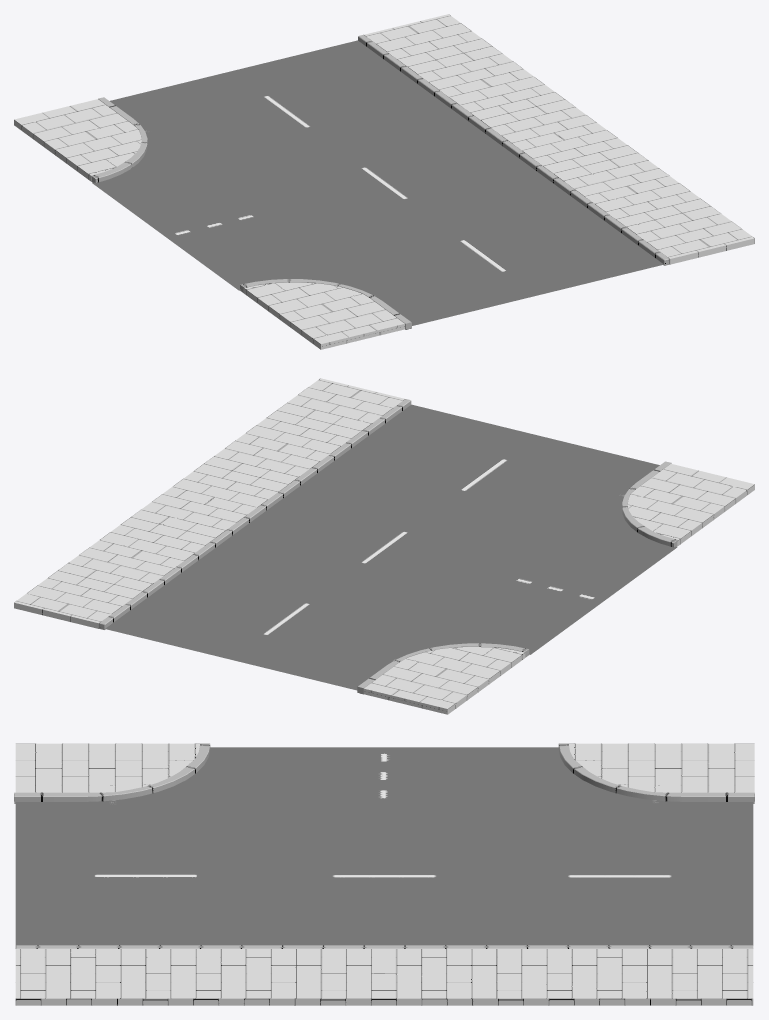
Rendered from Road TJunction.fbx.
3 renders of one model, top to bottom at view 1: azimuth 30°, elevation 25°; view 2: azimuth 150°, elevation 25°; view 3: azimuth 270°, elevation 25°, orthographic. The views are drawn at different scales.
Parts seen in each view (by area): view 1: pPlane2, pCube8, pPlane3, pCube7, pCube10, pCube9, pCube6, pCube5; view 2: pPlane2, pCube8, pPlane3, pCube10, pCube7, pCube9, pCube5, pCube6; view 3: pPlane2, pCube8, pPlane3, pCube10, pCube7, pCube9, pCube5, pCube6.
Boxes of the visible parts, left/top/right/bottom form: pPlane2: left=110, top=40, right=664, bottom=325; pCube8: left=364, top=14, right=754, bottom=264; pPlane3: left=92, top=109, right=409, bottom=320; pCube7: left=243, top=282, right=404, bottom=349; pCube10: left=14, top=99, right=141, bottom=181; pCube9: left=358, top=34, right=669, bottom=265; pCube6: left=91, top=97, right=147, bottom=183; pCube5: left=240, top=279, right=411, bottom=329; pPlane2: left=105, top=404, right=659, bottom=690; pCube8: left=14, top=378, right=405, bottom=628; pPlane3: left=354, top=466, right=677, bottom=688; pCube10: left=363, top=647, right=525, bottom=714; pCube7: left=627, top=464, right=754, bottom=546; pCube9: left=99, top=399, right=411, bottom=629; pCube5: left=622, top=461, right=677, bottom=547; pCube6: left=357, top=643, right=529, bottom=694; pPlane2: left=15, top=801, right=753, bottom=945; pCube8: left=15, top=949, right=753, bottom=1005; pPlane3: left=18, top=747, right=749, bottom=804; pCube10: left=569, top=743, right=754, bottom=792; pCube7: left=15, top=743, right=199, bottom=792; pCube9: left=15, top=945, right=753, bottom=948; pCube5: left=14, top=743, right=210, bottom=803; pCube6: left=558, top=743, right=754, bottom=803.
Size of the model in its own units: 20.56 by 0.275 by 25.12.
Materials: 3 (3 with a texture image).
